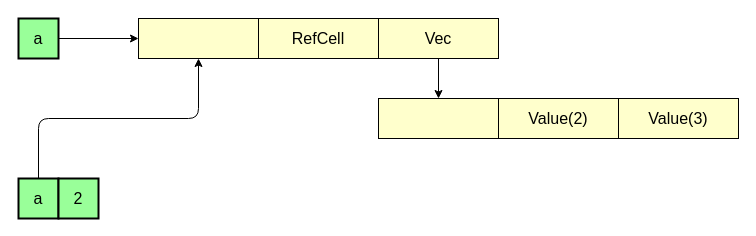
The diagram is 756 pixels wide and 236 high, and some of its shapes have lost their labels. Each missing label, with the centre of its shape:
RefCount: the point at 198,38
Value(1): the point at 438,118
